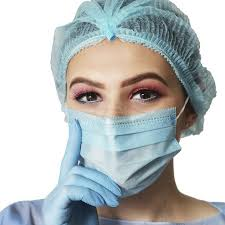with_mask_and_cap: (63, 2, 194, 197)
